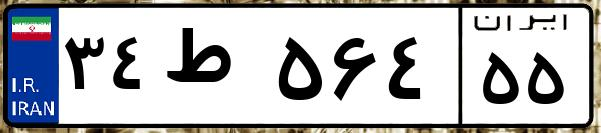3: (57, 26, 110, 100)
4: (385, 28, 445, 110), (110, 28, 158, 98)
5: (270, 28, 330, 110), (475, 38, 525, 113), (525, 38, 570, 115)
6: (330, 28, 385, 110)
ط: (158, 20, 270, 120)
